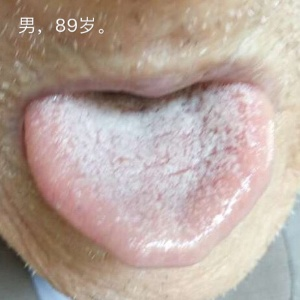st: (22, 100, 285, 268)
